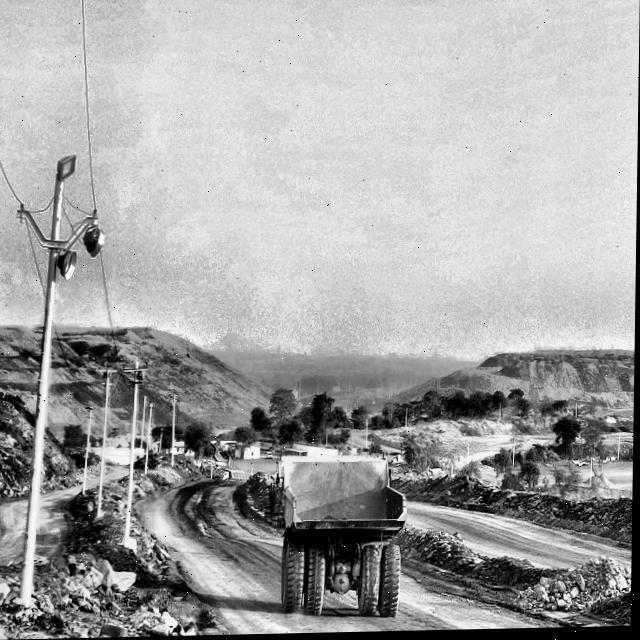dump_truck: (266, 455, 407, 618)
